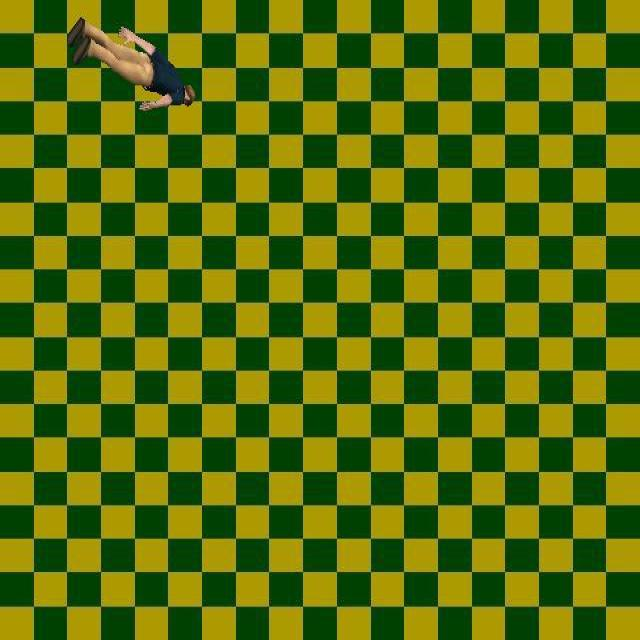obstacle: (60, 16, 198, 116)
